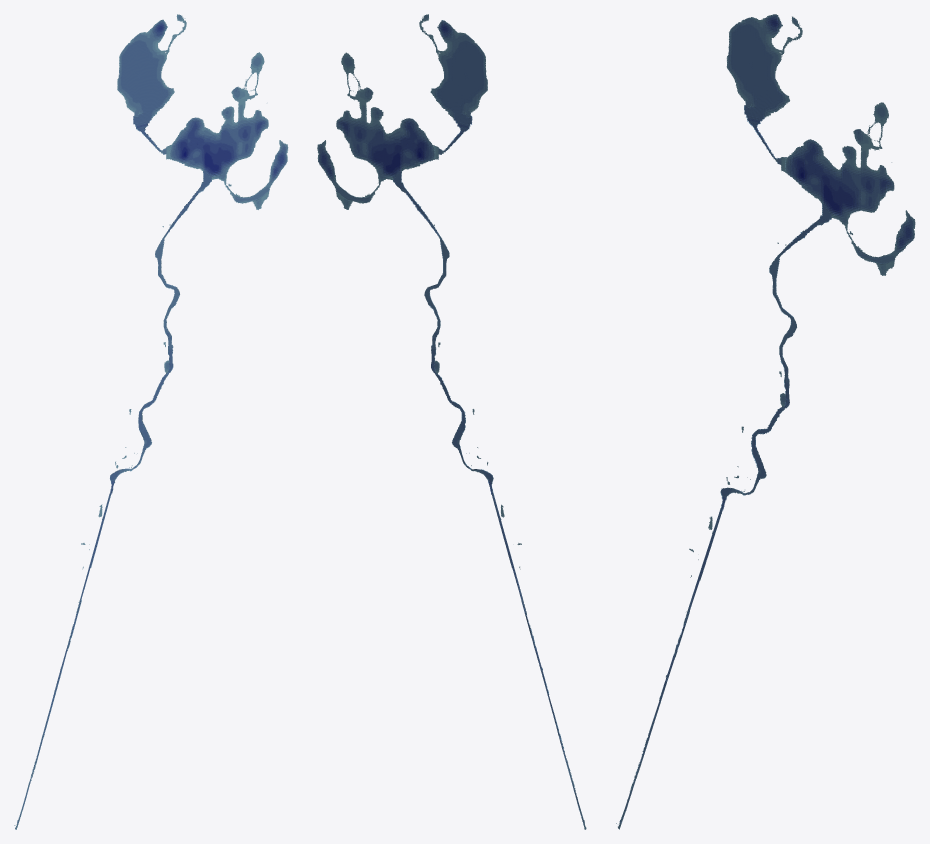
File: triangle_mesh.glb
The picture shows the model from 3 angles, left to right: view 1: azimuth 30°, elevation 25°; view 2: azimuth 150°, elevation 25°; view 3: azimuth 330°, elevation 25°; orthographic projection. The views are drawn at different scales.
Parts seen in each view (by area): view 1: world; view 2: world; view 3: world.
Part boxes in pixels (<box>): world: <box>14,14,288,829</box>; world: <box>317,14,586,829</box>; world: <box>616,14,915,829</box>.
Bounding box in the file's own units: 1003 × 2733 × 13.73.
